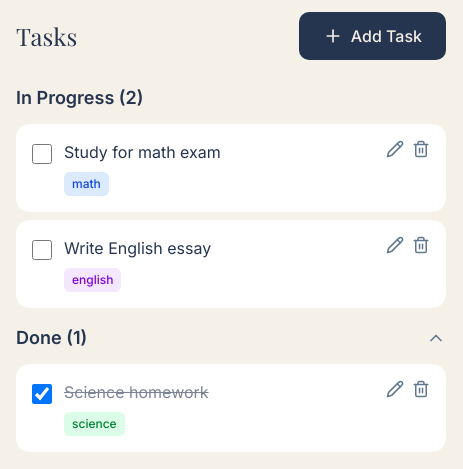
Test: TodoClient › 32.5 Test collapsible sections › should collapse and expand done section
Expected: the text "Science homework" is shown, top-left (64, 382), bottom-right (209, 402)
Click to collapse
Click the button "Done (1)".
click(44, 338)  # box top-left (16, 324), bottom-right (446, 352)
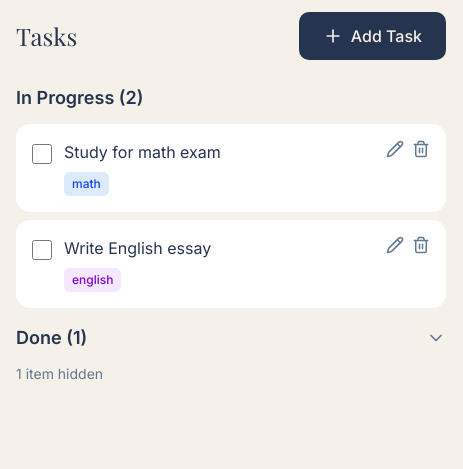
Result: the text "1 item hidden" is shown at top-left (16, 365), bottom-right (103, 382)
Result: the text "Science homework" is gone
Click to expand again
Click the button "Done (1)".
click(44, 338)  # box top-left (16, 324), bottom-right (446, 352)
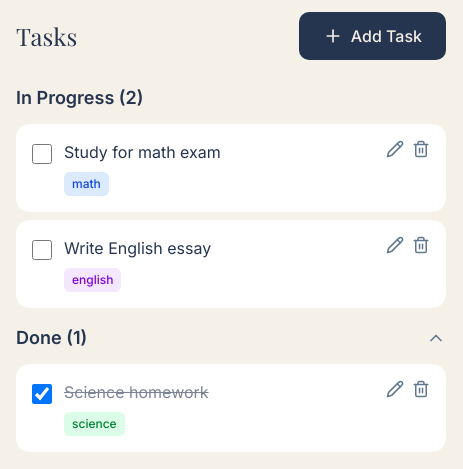
Result: the text "Science homework" is shown at top-left (64, 382), bottom-right (209, 402)
